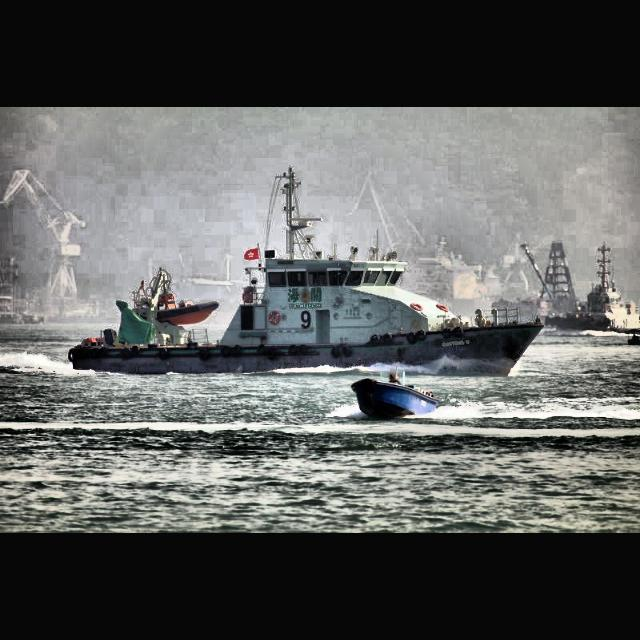patrol_vessel: (64, 164, 546, 378)
